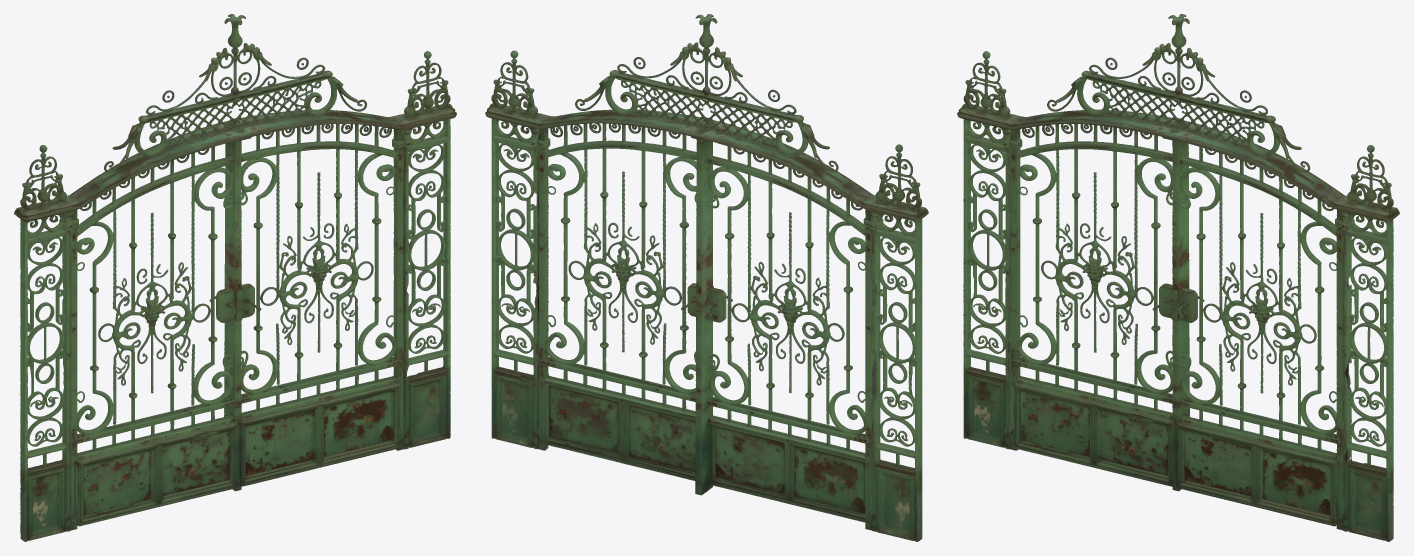
The model's file is Ornate Green Iron Gate_DKB.glb.
The picture shows the model from 3 angles, left to right: view 1: azimuth 30°, elevation 25°; view 2: azimuth 150°, elevation 25°; view 3: azimuth 330°, elevation 25°; orthographic projection.
Bounding box in the file's own units: 1.83 × 1.9 × 0.1636.
1 material, 1 textured.
